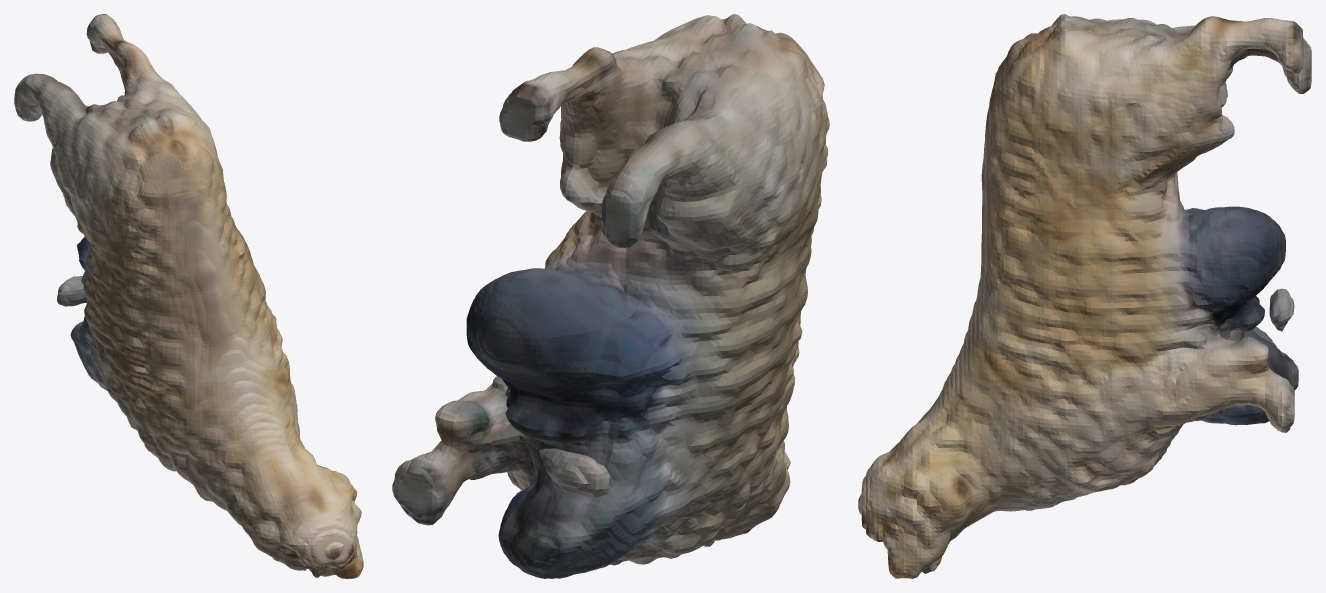
3 renders of one model, left to right at view 1: azimuth 30°, elevation 25°; view 2: azimuth 150°, elevation 25°; view 3: azimuth 270°, elevation 25°, orthographic. The views are drawn at different scales.
Visible parts, largest first — view 1: world; view 2: world; view 3: world.
Boxes of the visible parts, box(x1,y1,x2,y2) form: world: box(14, 14, 363, 578); world: box(392, 14, 829, 578); world: box(858, 14, 1311, 578).
Size of the model in its own units: 0.418 by 0.9092 by 0.7288.
